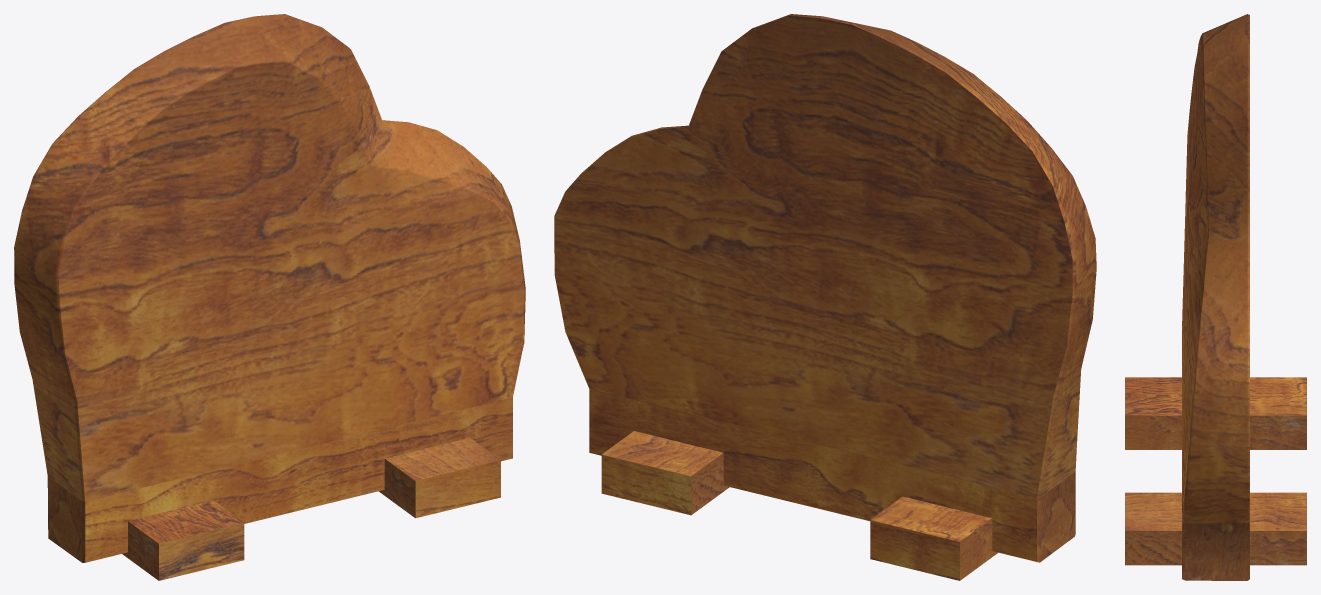
Rendered from Standwall02.fbx.
3 views of the same model, side by side, from view 1: azimuth 30°, elevation 25°; view 2: azimuth 150°, elevation 25°; view 3: azimuth 270°, elevation 25° (orthographic). The views are drawn at different scales.
Visible parts, largest first — view 1: Standwall02; view 2: Standwall02; view 3: Standwall02.
Part boxes in pixels (left/top/right/bottom): Standwall02: left=14, top=14, right=525, bottom=580; Standwall02: left=554, top=14, right=1096, bottom=580; Standwall02: left=1125, top=14, right=1306, bottom=580.
Bounding box in the file's own units: 116 × 107 × 40.
